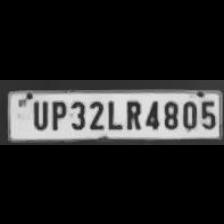0: (178, 97, 198, 129)
2: (86, 96, 104, 130)
3: (66, 96, 86, 130)
4: (142, 96, 162, 130)
5: (198, 96, 218, 130)
8: (160, 96, 178, 130)
L: (104, 98, 122, 130)
P: (47, 98, 66, 130)
R: (122, 96, 142, 130)
U: (28, 98, 48, 130)
